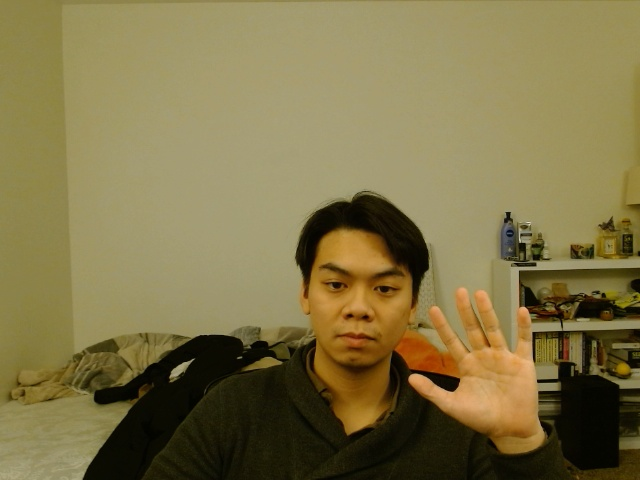Hello: (400, 282, 567, 439)
